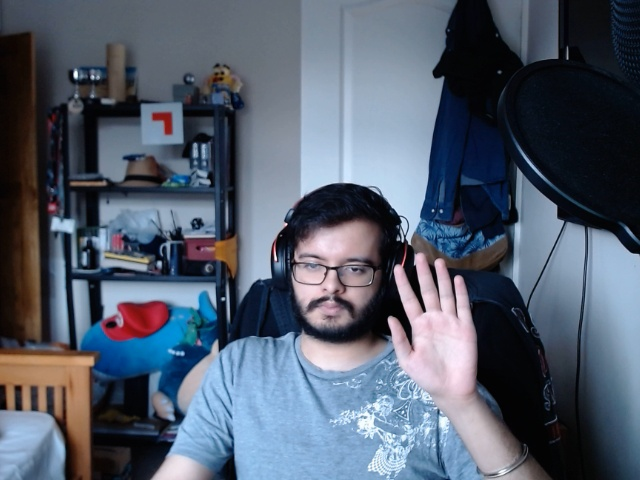Hello: (385, 243, 481, 405)
